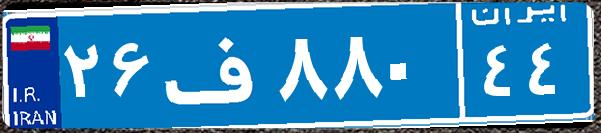0: (385, 28, 445, 110)
2: (57, 26, 110, 107)
4: (475, 38, 525, 113), (525, 38, 570, 115)
6: (110, 28, 158, 105)
8: (273, 28, 330, 110), (330, 28, 385, 110)
ف: (158, 15, 273, 115)
